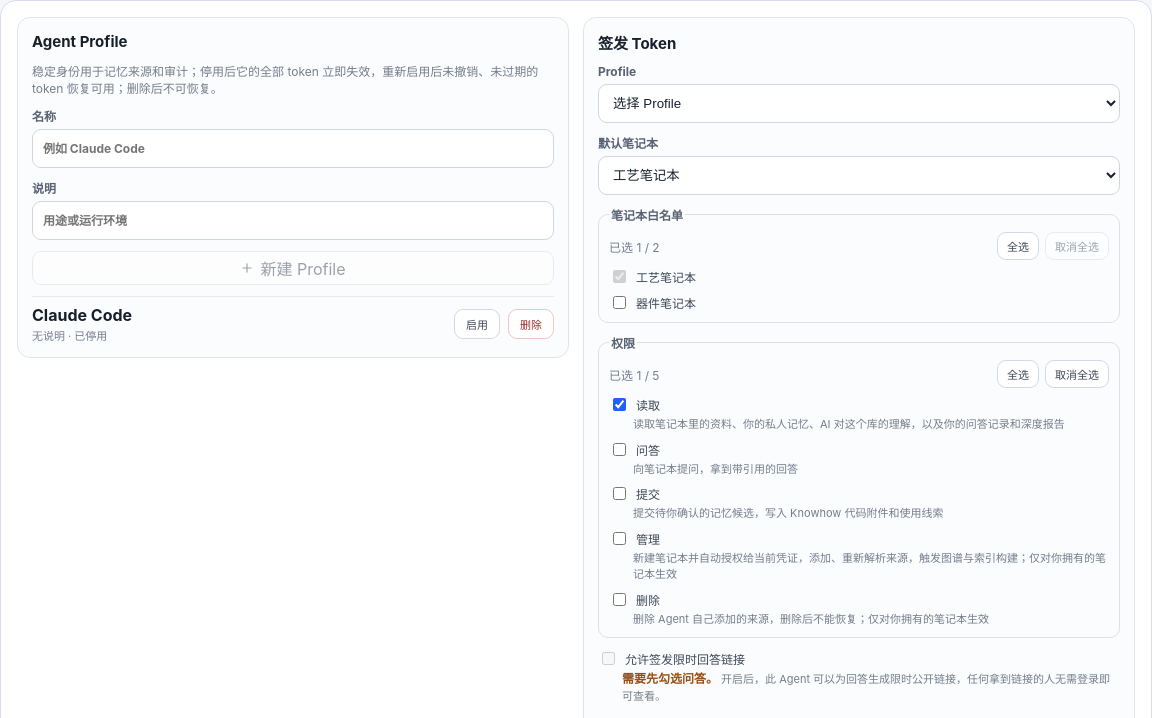
Test case: 启用失败时原因落在该 Profile 行，确认留着可以就地重试
Expected: the text "Claude Code" is shown, [32,305,132,325]
Click the button "启用": (477, 324) [454,309,500,339]
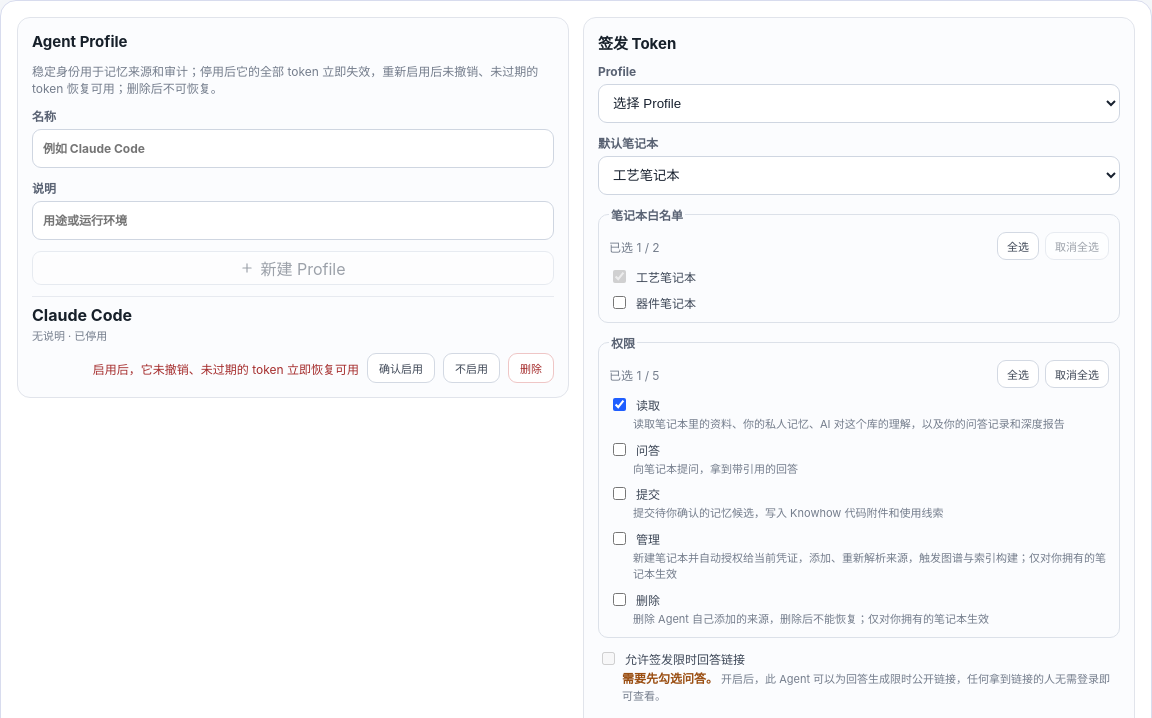
Expected: the text "Claude Code" is shown, [32,305,132,325]
Click the button "确认启用": (401, 368) [367,353,435,383]
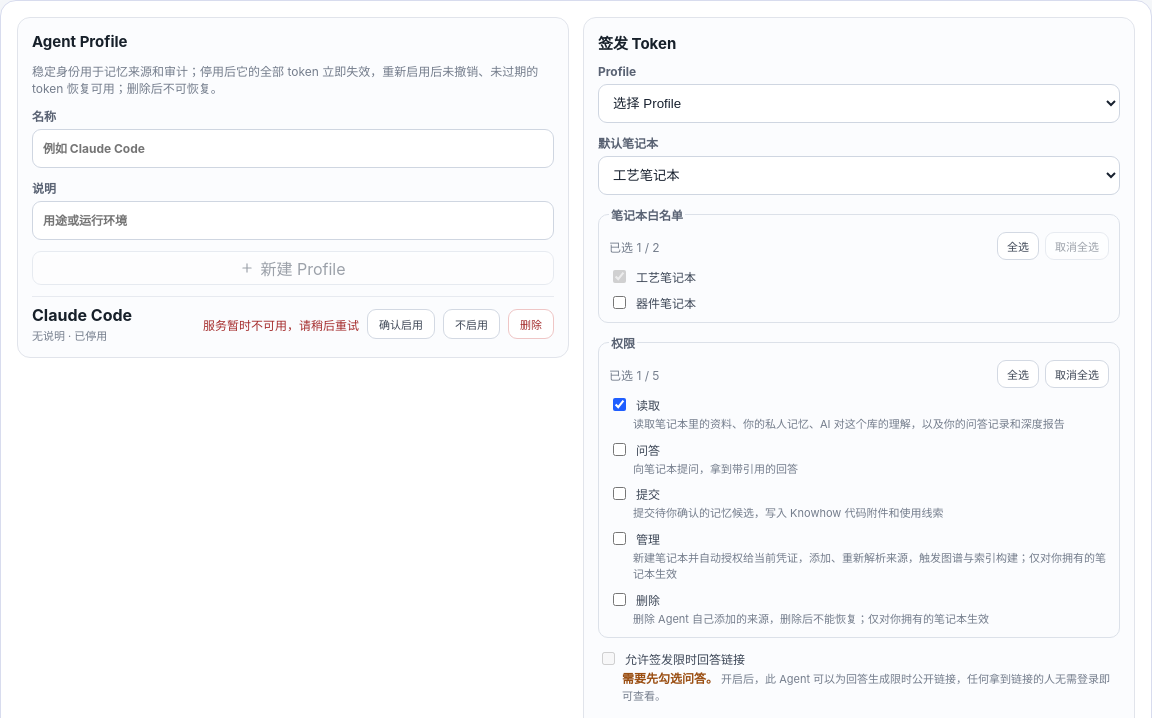
Expected: the text "Claude Code" is shown, [32,305,132,325]
Expected: the message shows "服务暂时不可用", [203,318,359,332]
Click the button "确认启用": (401, 324) [367,309,435,339]
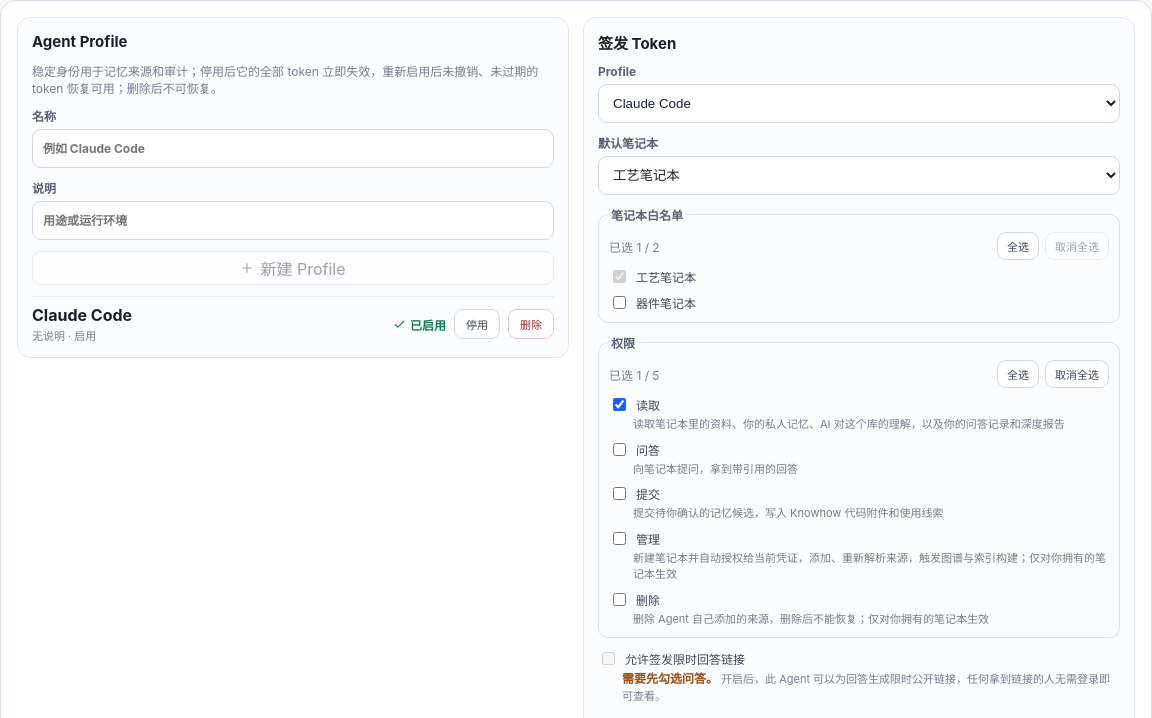
Expected: the text "Claude Code" is shown, [32,305,132,325]
Expected: the message reads "已启用", [410,318,446,332]
